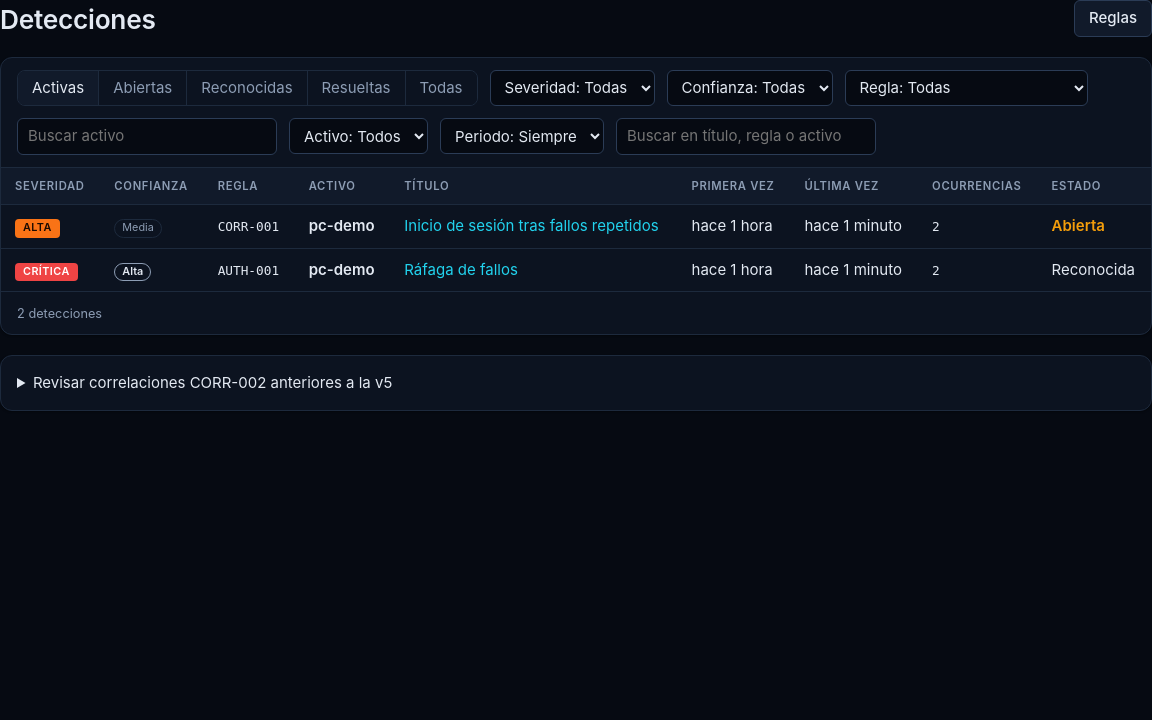
it: DetectionsPage › al pulsar una fila abre el detalle
The width and height of the screenshot is (1152, 720).
Click the text "Inicio de sesión tras fallos repetidos" at (576, 227), box [1,205,1151,248]
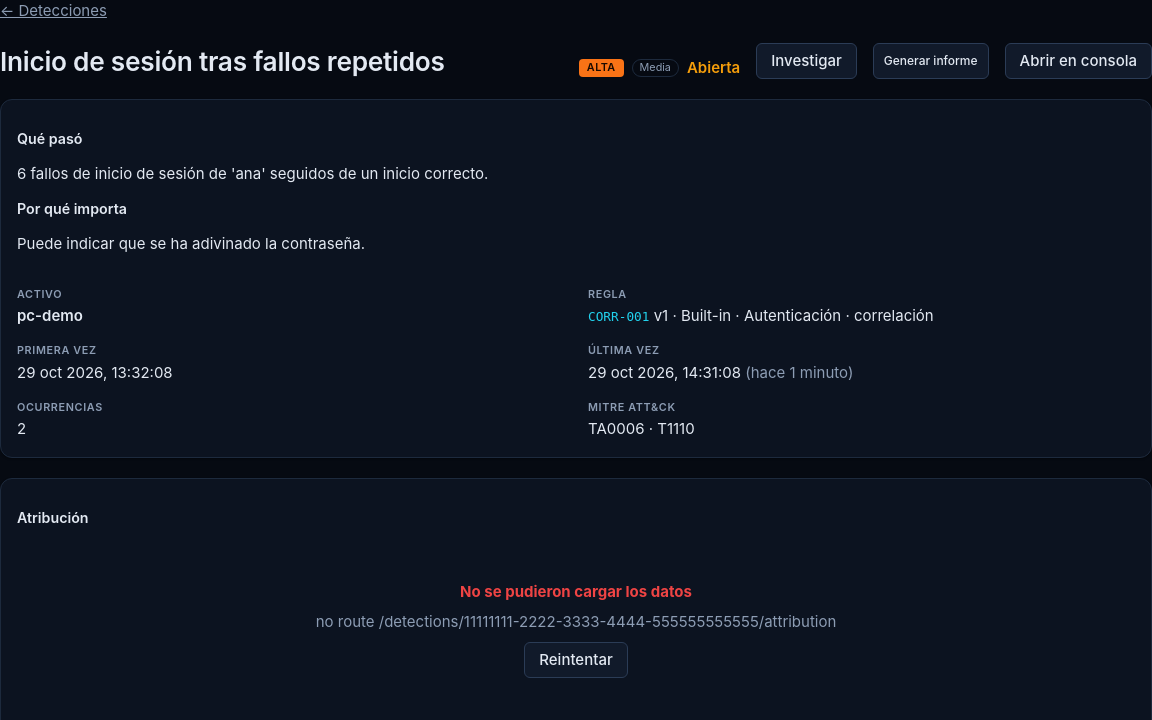
Check: the heading "Qué pasó" is shown, box [17,130,82,147]
